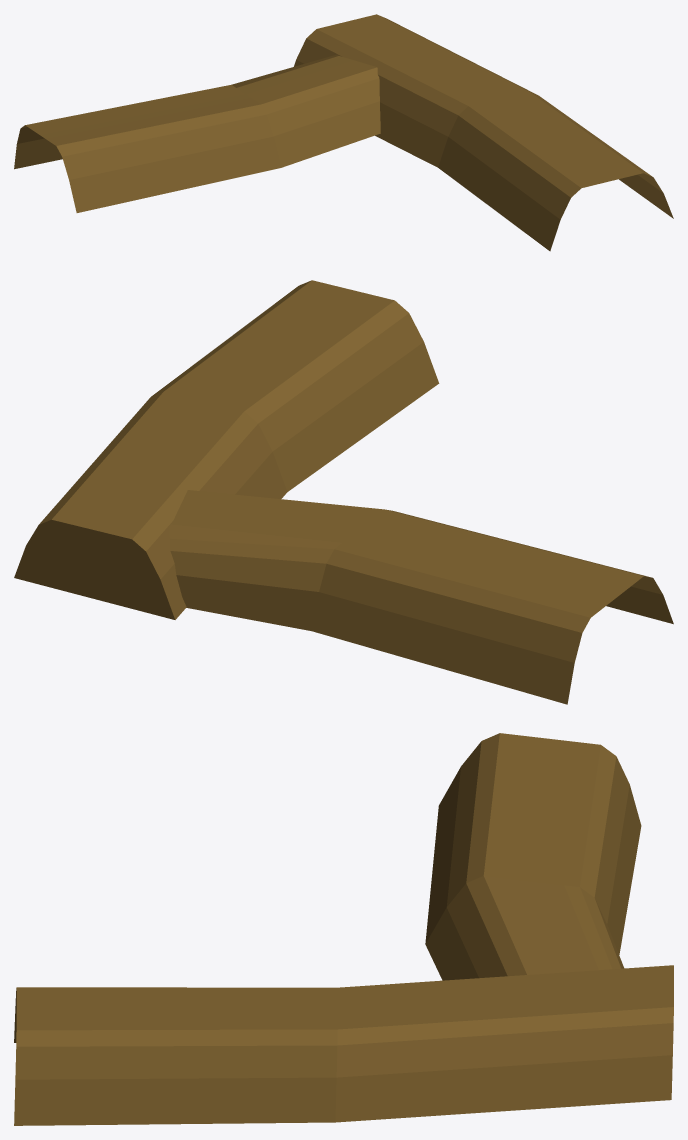
The model's file is SM_Paddies_90_Degree.fbx.
3 renders of one model, top to bottom at view 1: azimuth 30°, elevation 25°; view 2: azimuth 150°, elevation 25°; view 3: azimuth 270°, elevation 25°, orthographic. The views are drawn at different scales.
Visible parts, largest first — view 1: Paddie.005; view 2: Paddie.005; view 3: Paddie.005.
Part boxes in pixels (x1,y1,x2,y2): Paddie.005: (14,14,673,251); Paddie.005: (14,280,673,704); Paddie.005: (14,733,673,1125).
Bounding box in the file's own units: 372 × 48.77 × 333.
